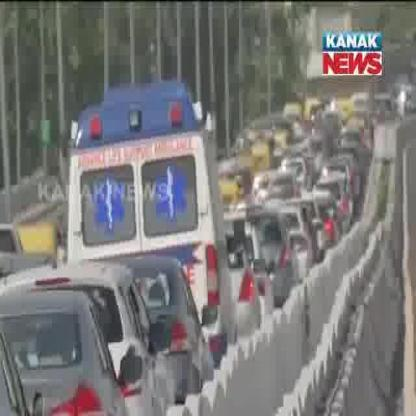priority: (64, 69, 210, 245)
